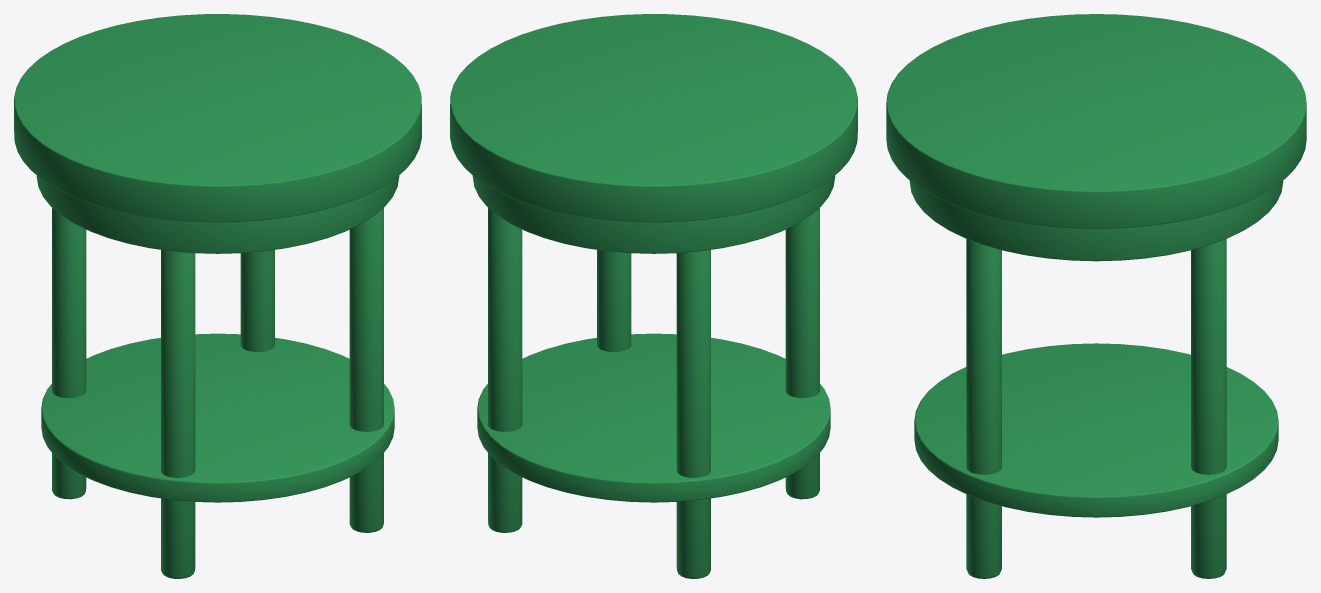
The model's file is mesa_lateral_redonda_prateleira_verde.glb.
The picture shows the model from 3 angles, left to right: view 1: azimuth 30°, elevation 25°; view 2: azimuth 150°, elevation 25°; view 3: azimuth 270°, elevation 25°; orthographic projection. The views are drawn at different scales.
Parts seen in each view (by area): view 1: mesa_lateral_redonda_prateleira_verde; view 2: mesa_lateral_redonda_prateleira_verde; view 3: mesa_lateral_redonda_prateleira_verde.
Boxes of the visible parts, bbox=[...] form: mesa_lateral_redonda_prateleira_verde: bbox=[14, 14, 421, 578]; mesa_lateral_redonda_prateleira_verde: bbox=[450, 14, 857, 578]; mesa_lateral_redonda_prateleira_verde: bbox=[886, 14, 1306, 578].
Bounding box in the file's own units: 0.45 × 0.5 × 0.45.
Materials: 1 (1 with a texture image).
